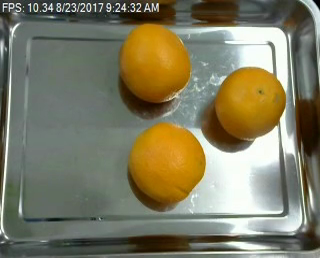Orange: (129, 123, 206, 204), (119, 22, 192, 103), (214, 67, 287, 140)
